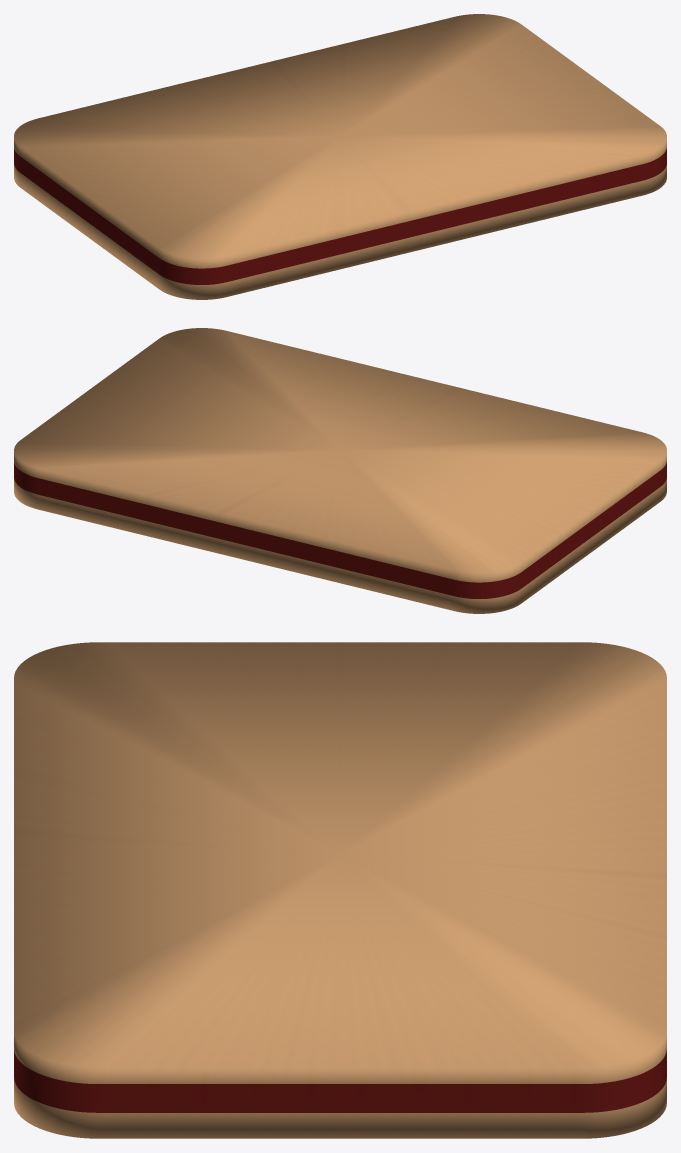
File: cake-foundation.glb
3 views of the same model, one above another, from view 1: azimuth 30°, elevation 25°; view 2: azimuth 150°, elevation 25°; view 3: azimuth 270°, elevation 25° (orthographic). The views are drawn at different scales.
Visible parts, largest first — view 1: Golden sponge foundation top, Raspberry jam foundation band, Golden sponge foundation foot; view 2: Golden sponge foundation top, Raspberry jam foundation band, Golden sponge foundation foot; view 3: Golden sponge foundation top, Raspberry jam foundation band, Golden sponge foundation foot.
Boxes of the visible parts, x1=… form: Golden sponge foundation top: x1=14, y1=14, x2=666, y2=268; Raspberry jam foundation band: x1=14, y1=148, x2=666, y2=284; Golden sponge foundation foot: x1=14, y1=164, x2=666, y2=299; Golden sponge foundation top: x1=14, y1=328, x2=666, y2=582; Raspberry jam foundation band: x1=14, y1=462, x2=666, y2=598; Golden sponge foundation foot: x1=14, y1=478, x2=666, y2=613; Golden sponge foundation top: x1=14, y1=642, x2=666, y2=1083; Raspberry jam foundation band: x1=14, y1=1050, x2=666, y2=1112; Golden sponge foundation foot: x1=14, y1=1078, x2=666, y2=1138.
Size of the model in its own units: 12.68 by 1 by 8.24.
